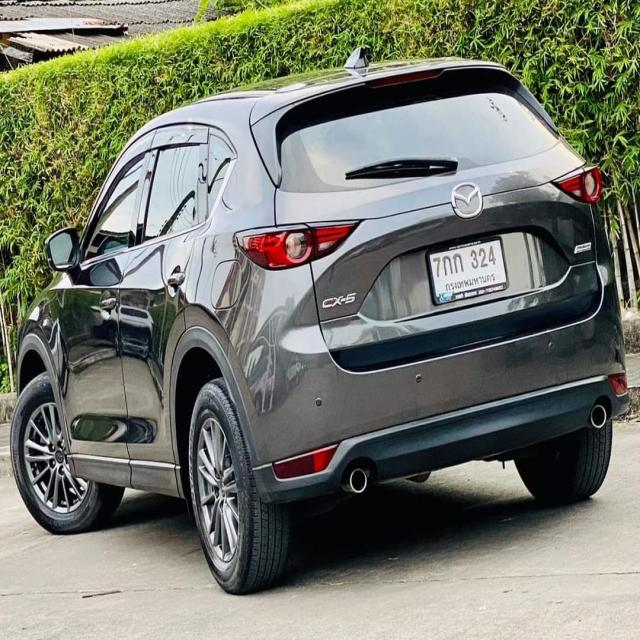license_plate: (425, 231, 508, 309)
